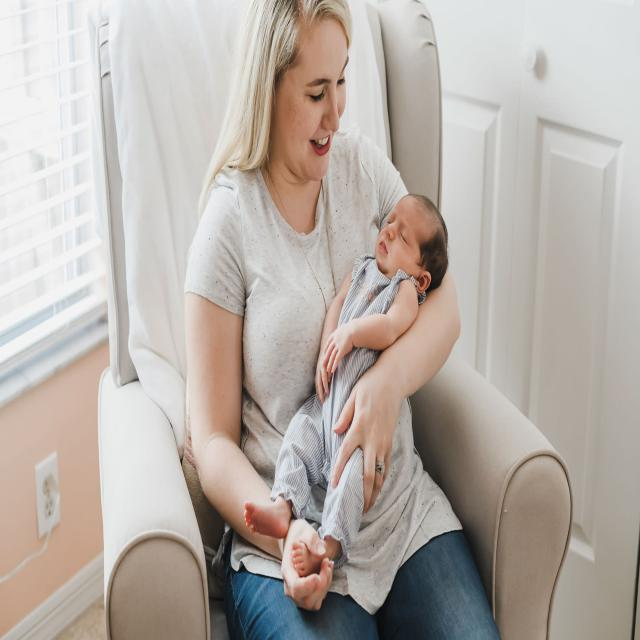adult: (181, 0, 504, 640)
child: (244, 191, 449, 580)
